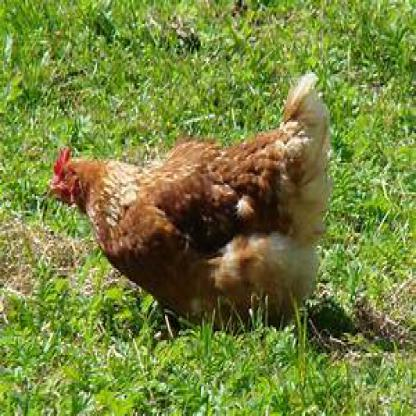chicken: (54, 72, 331, 327)
